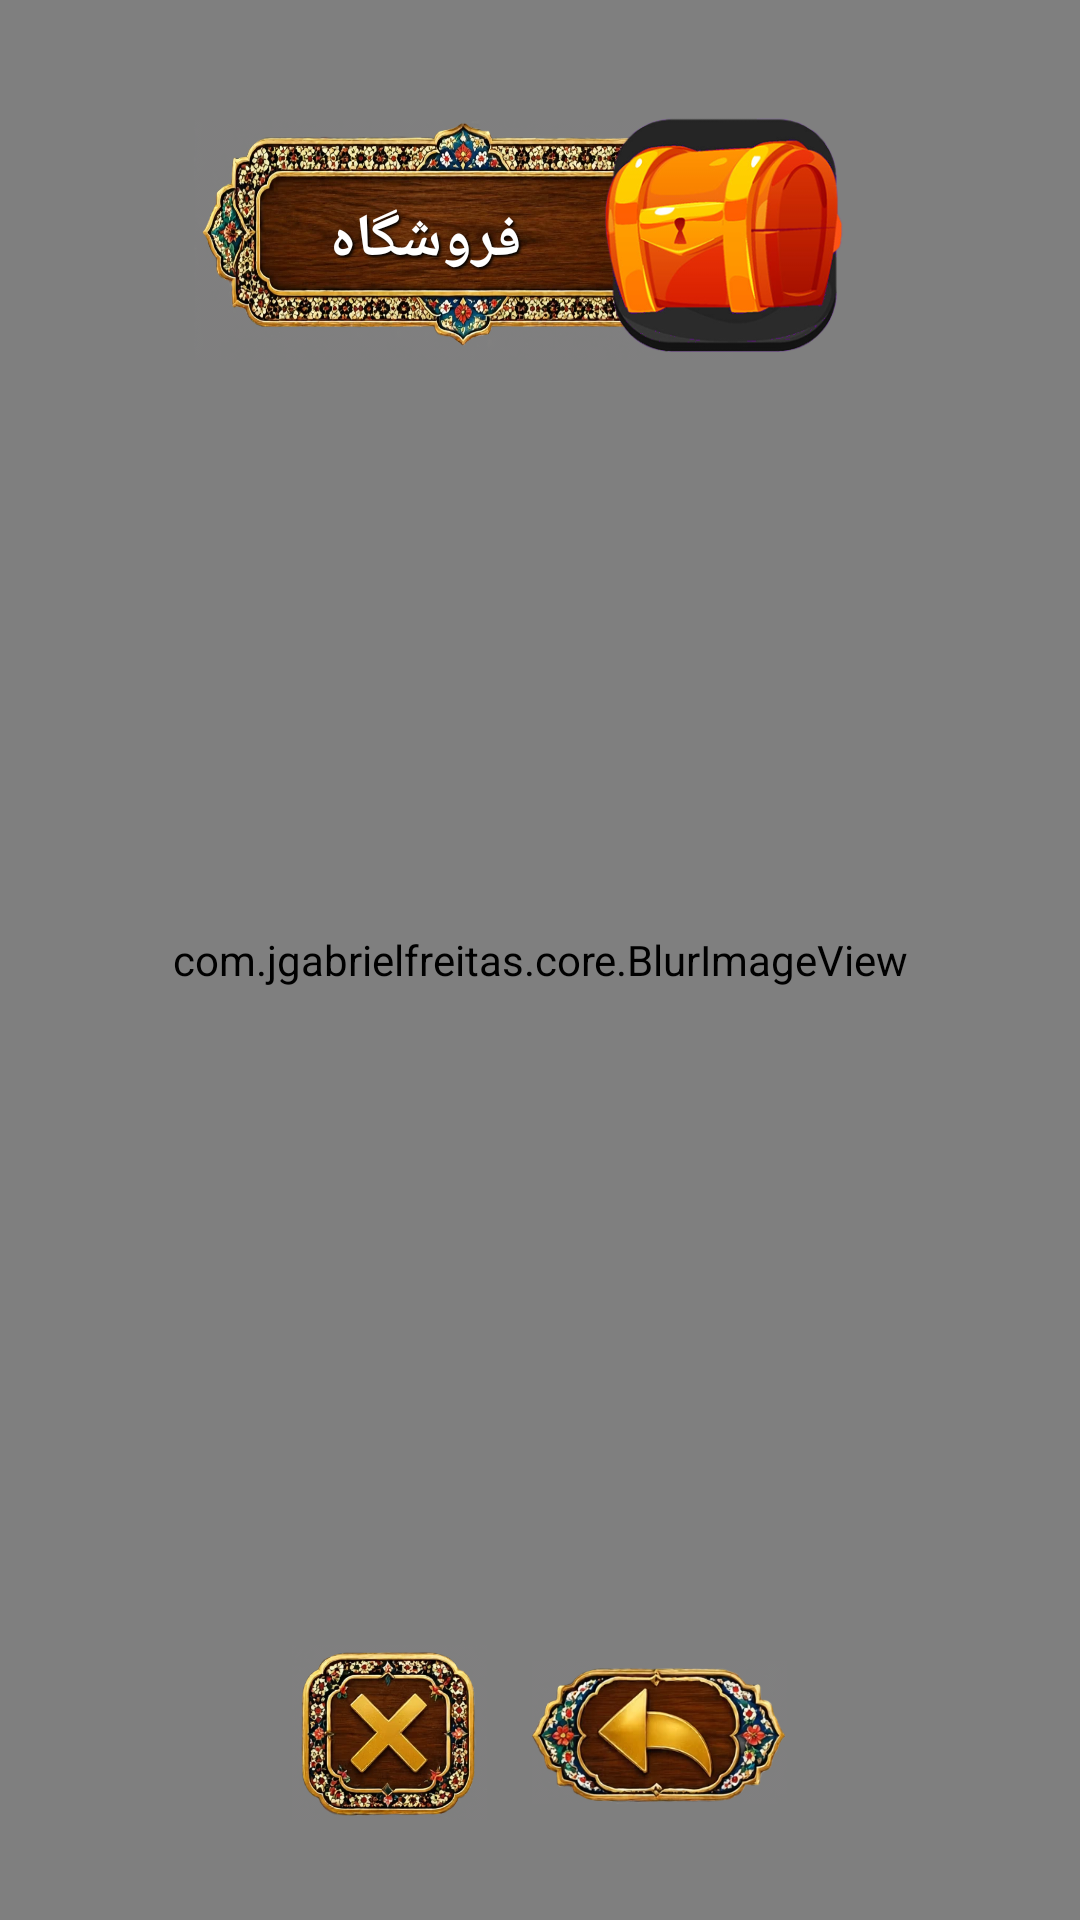

Icon bounding boxes for this 1080px×1920px phone screenshot, format (x1, y1, x2, y2):
back: (532, 1668, 785, 1802)
close: (302, 1652, 475, 1816)
sandogh: (585, 119, 842, 352)
